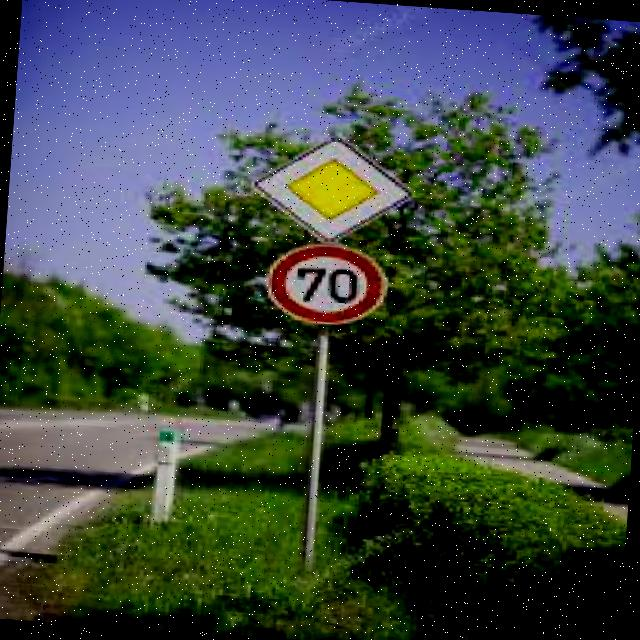Ograniczenie predkosci do 70: (263, 240, 390, 328)
